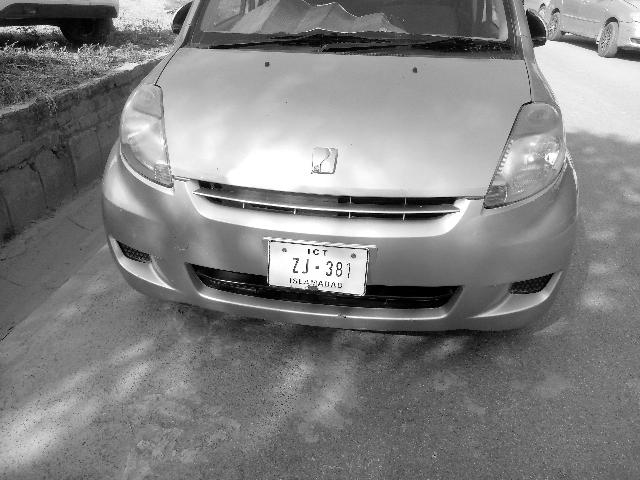Number: (287, 254, 355, 281)
